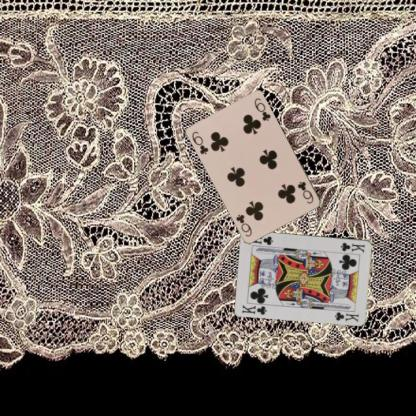6c: (190, 129, 210, 156), (295, 179, 315, 205)
Kc: (338, 239, 366, 254), (240, 301, 268, 316)
